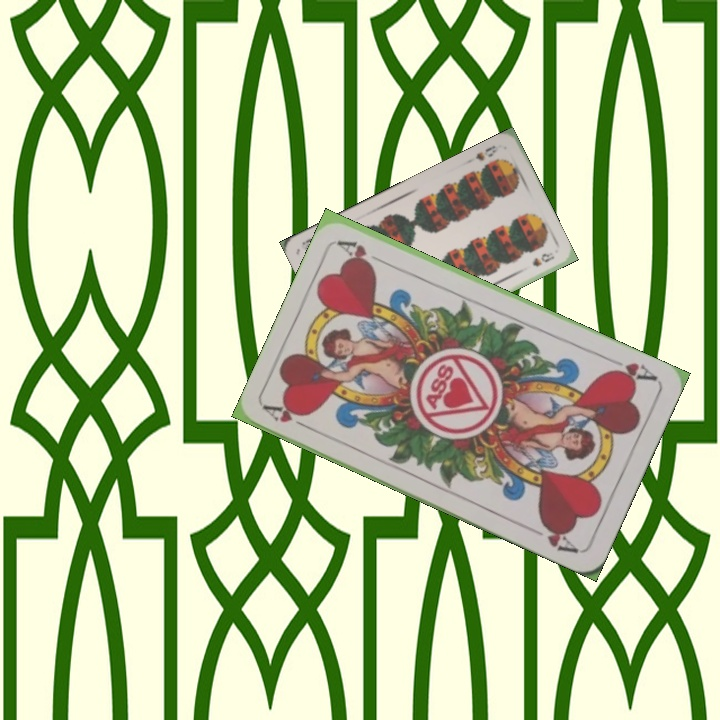HA: (261, 401, 318, 434), (603, 353, 659, 386)
S8: (471, 140, 505, 163)
